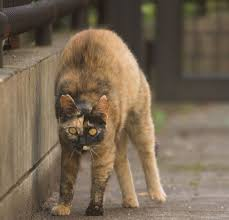cat: (40, 21, 169, 218)
